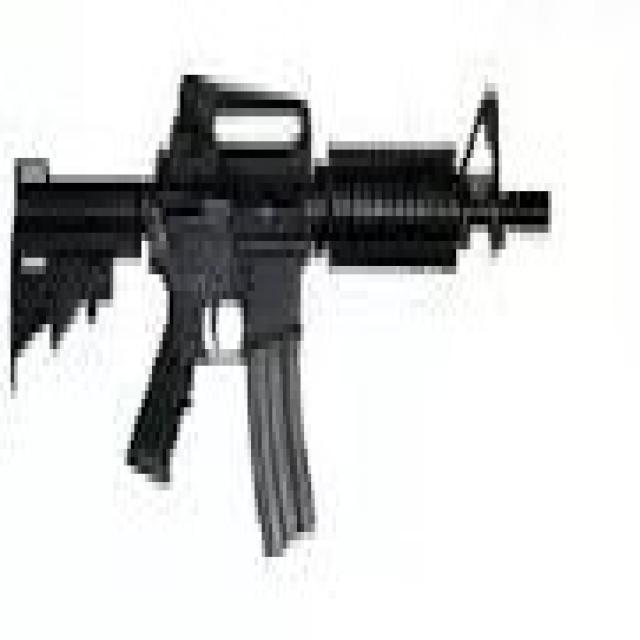rifle: (1, 52, 558, 584)
